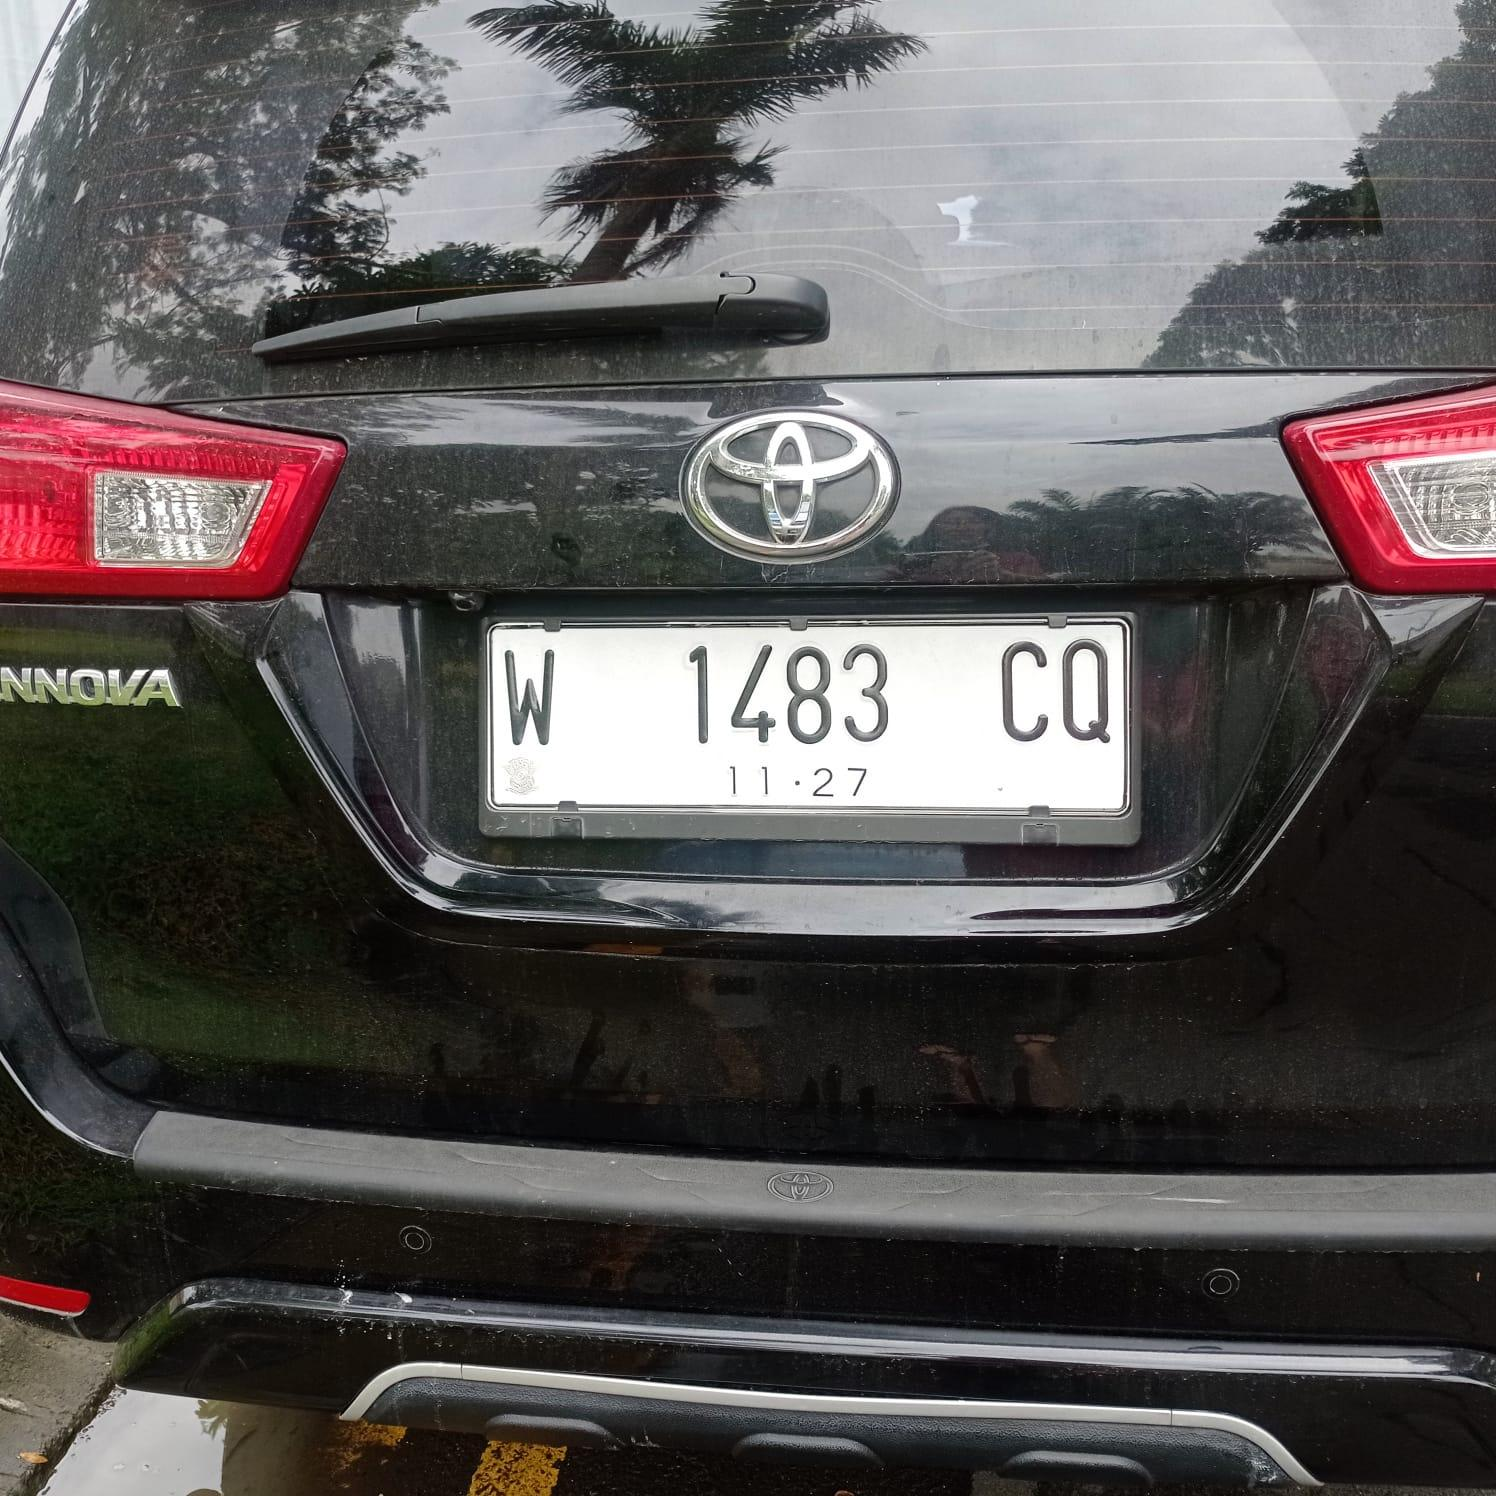plat: (482, 616, 1140, 844)
